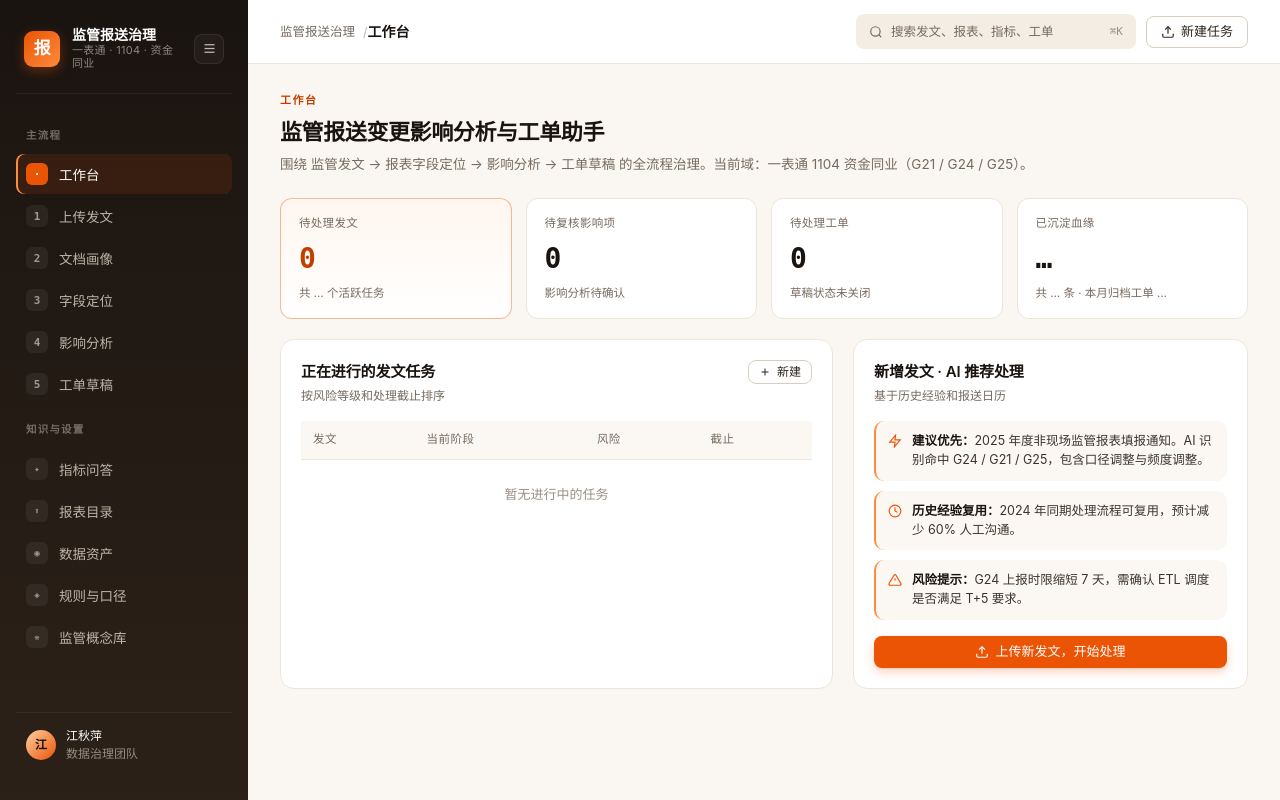
App › renders the five-step task workflow
Click the button "2 文档画像". click: (124, 258)
box: [16,238,232,278]
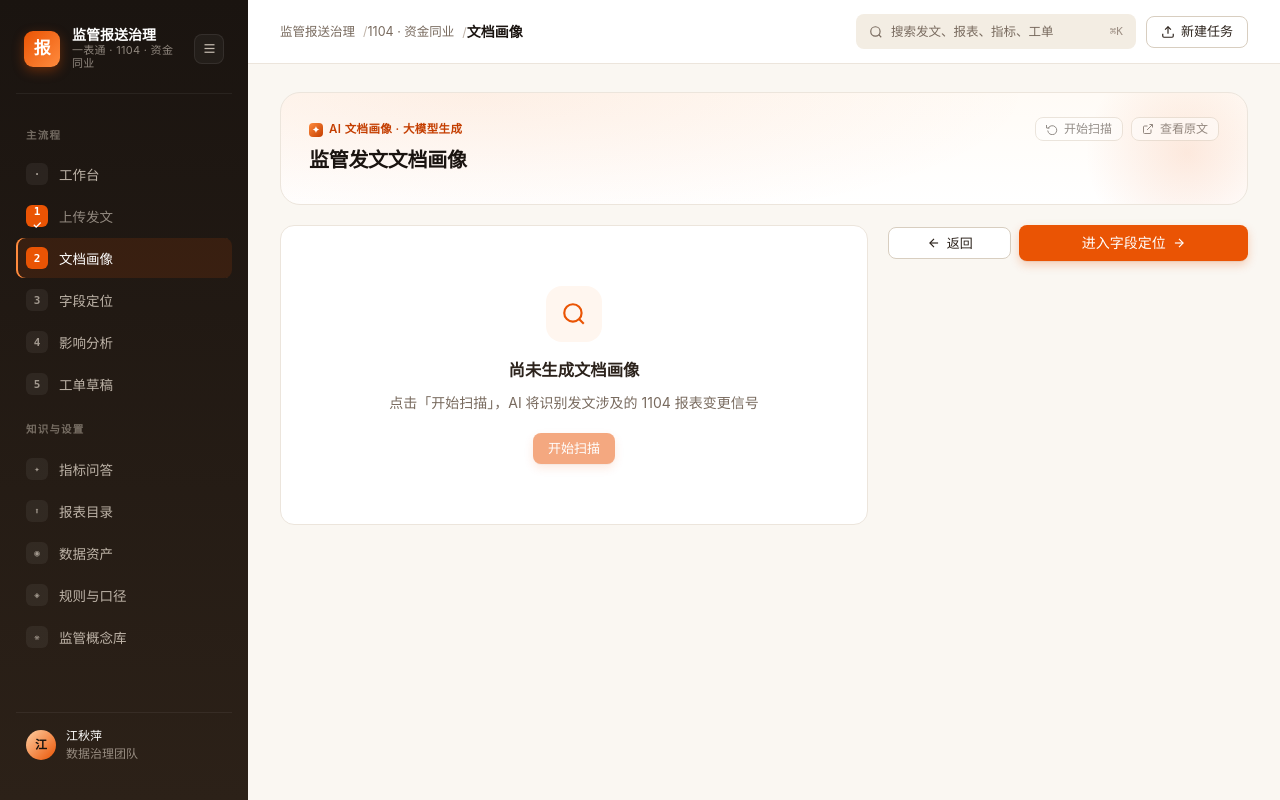
Expected: the text "工单草稿" is shown, [59,374,113,394]
Expected: the text "尚未生成文档画像" is shown, [509,360,640,380]
Expected: the text "开始扫描" is shown, [1035,117,1123,141]
